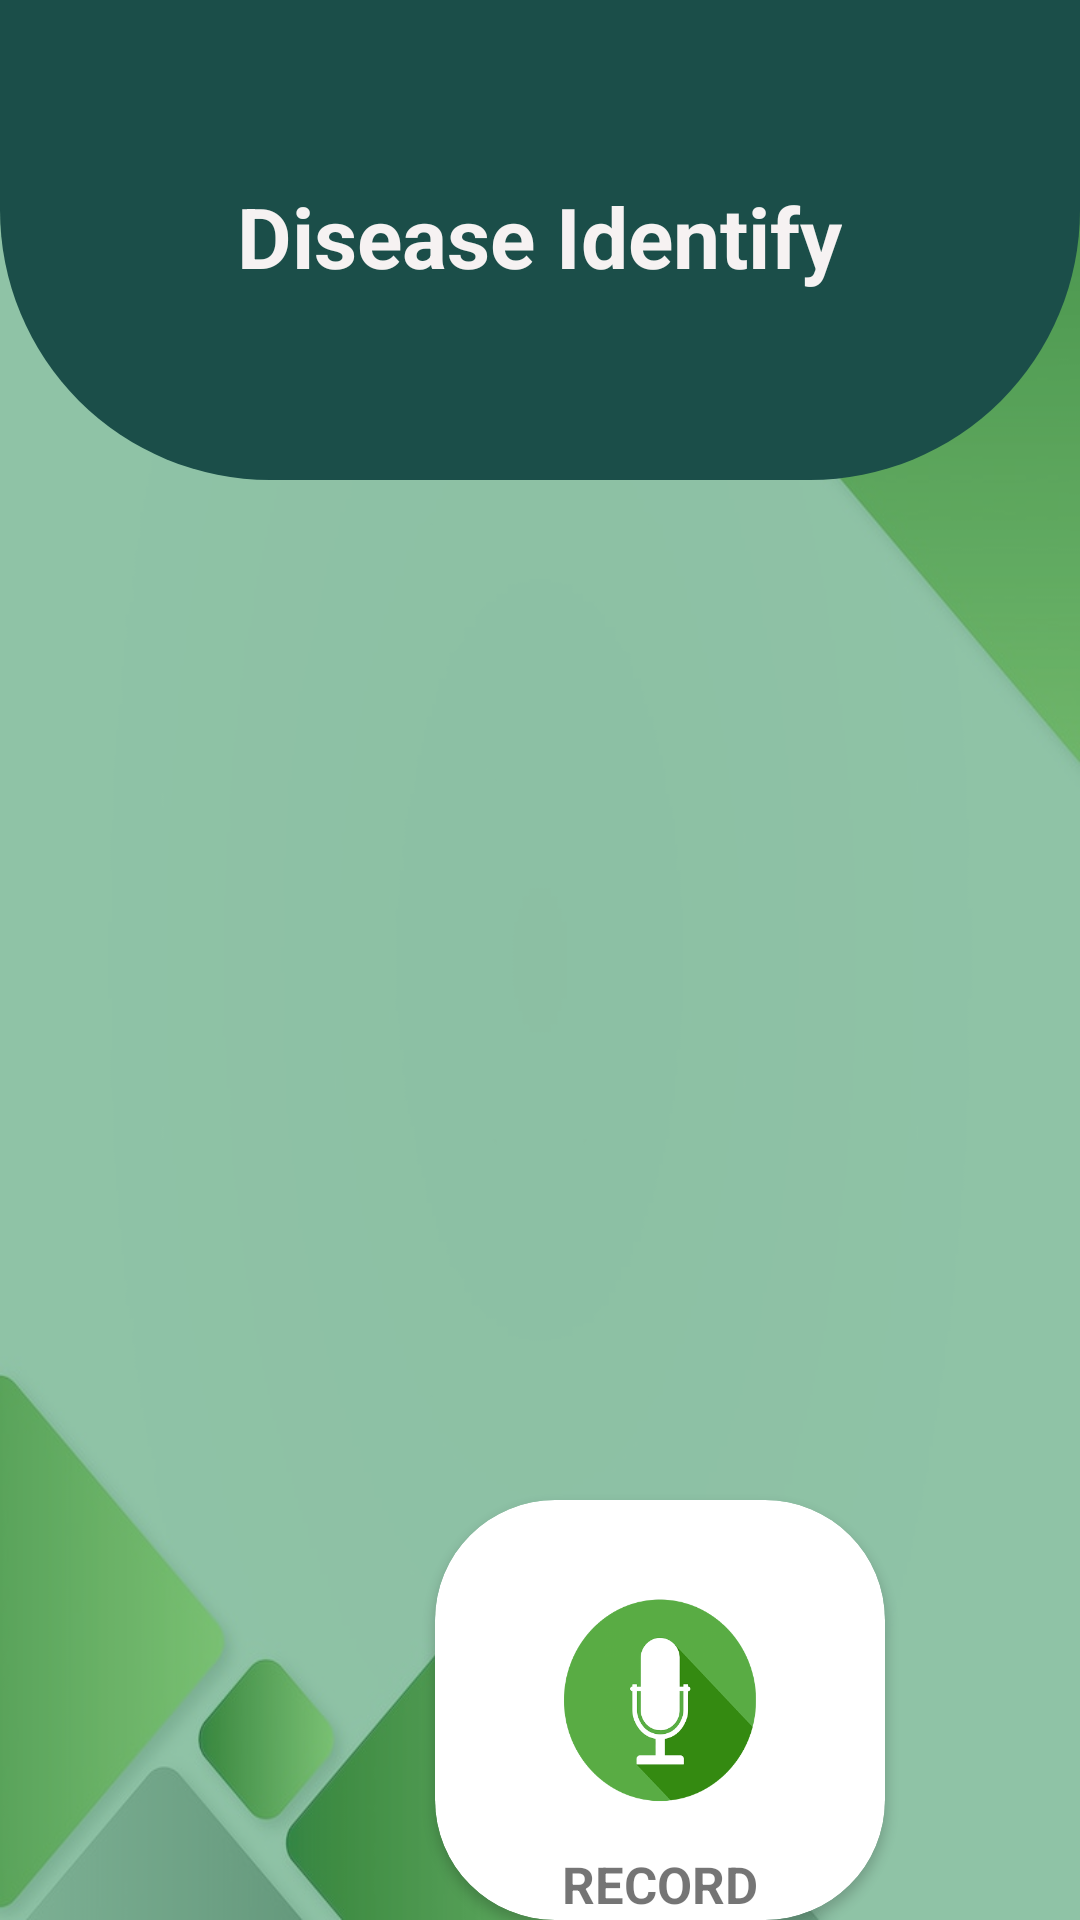

Icons on this 1080x1920 Android screen, each with the point to tap as [x,y]:
mic: [660,1700]
